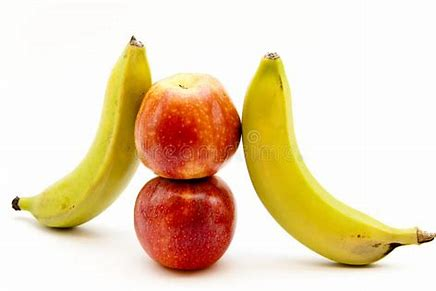apple: (131, 69, 243, 180), (130, 174, 237, 272)
banana: (5, 31, 150, 230), (194, 219, 432, 267)
